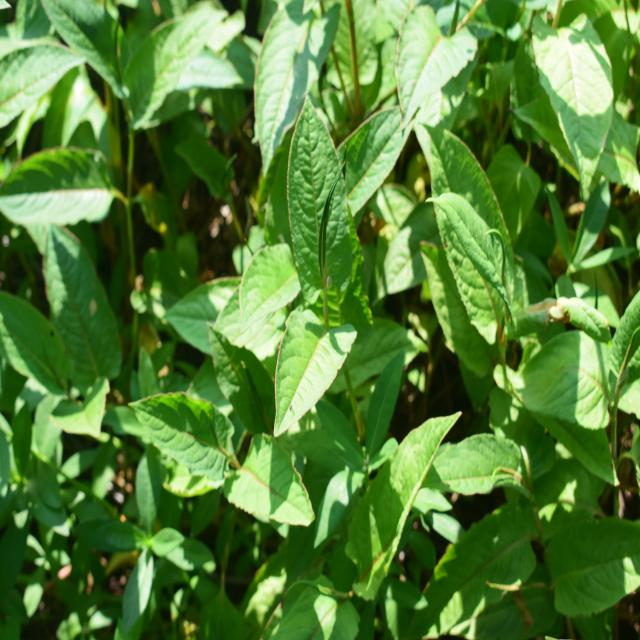Chinese_knotweed: (228, 89, 379, 450), (137, 364, 334, 550)
